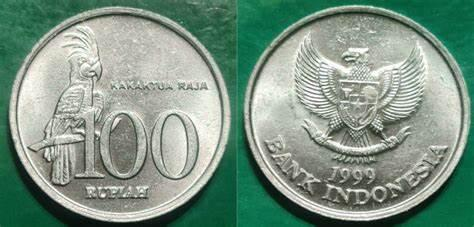coin_100_e1999: (242, 5, 470, 221), (7, 6, 229, 219)
